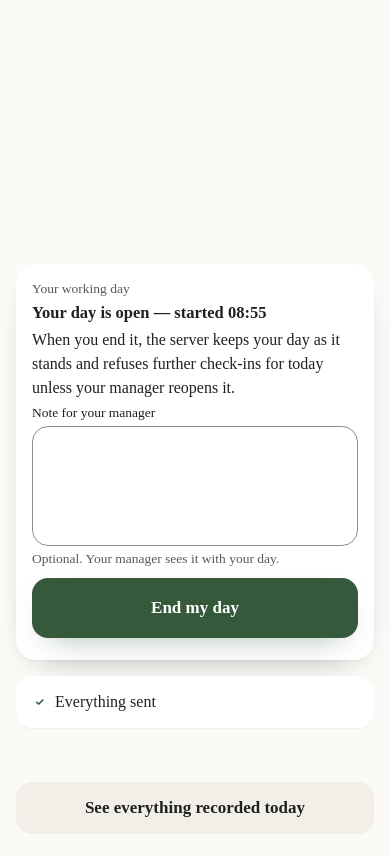
Test case: FE-W80 — End my day › a REFUSAL is said on the card with its remedy, and the button is offered again
(page scrolled)
Expected: the text "End my day" is shown, top-left (151, 597), bottom-right (239, 619)
Click the button "End my day". click: [195, 608]
box: top-left (32, 578), bottom-right (358, 638)
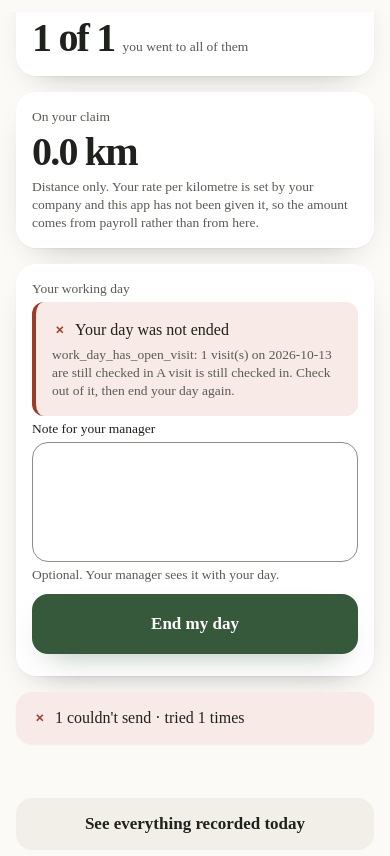
Expected: the button "End my day" is shown, top-left (32, 594), bottom-right (358, 654)
Result: the text "Your day was not ended" is shown at top-left (75, 321), bottom-right (229, 338)
Result: the text "Check out of it, then end your day again" is shown at top-left (52, 347), bottom-right (335, 398)
